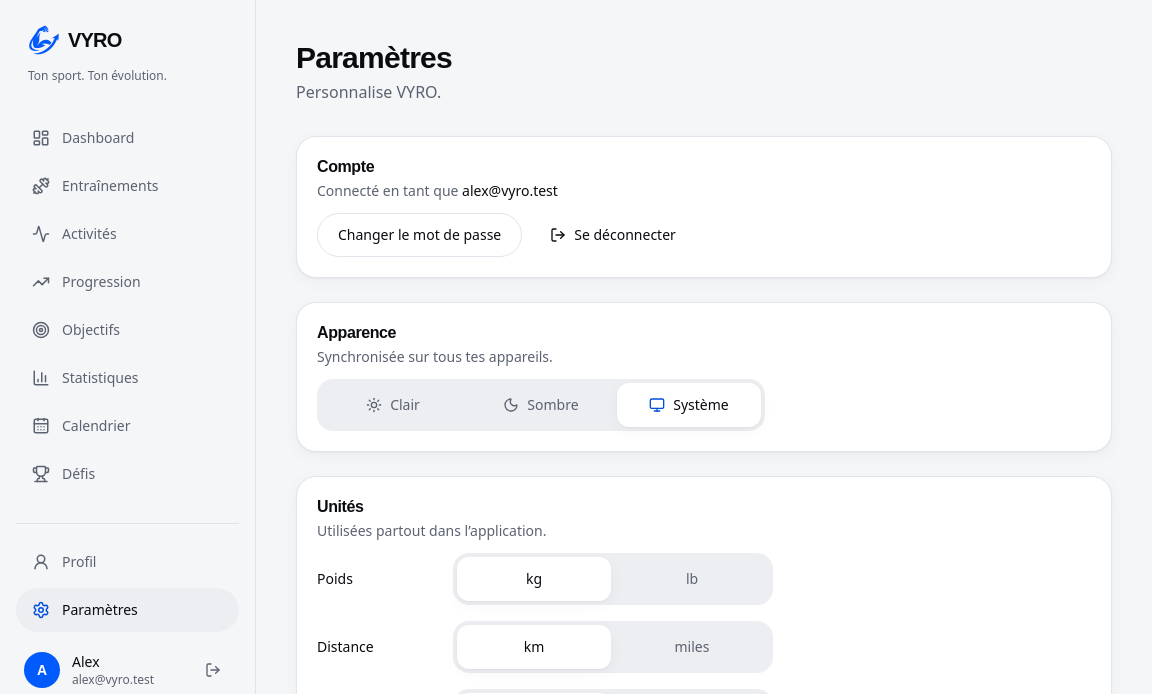
Scenario: Settings › changes the password
Click the button "Changer le mot de passe": click(420, 235) [317,213,522,257]
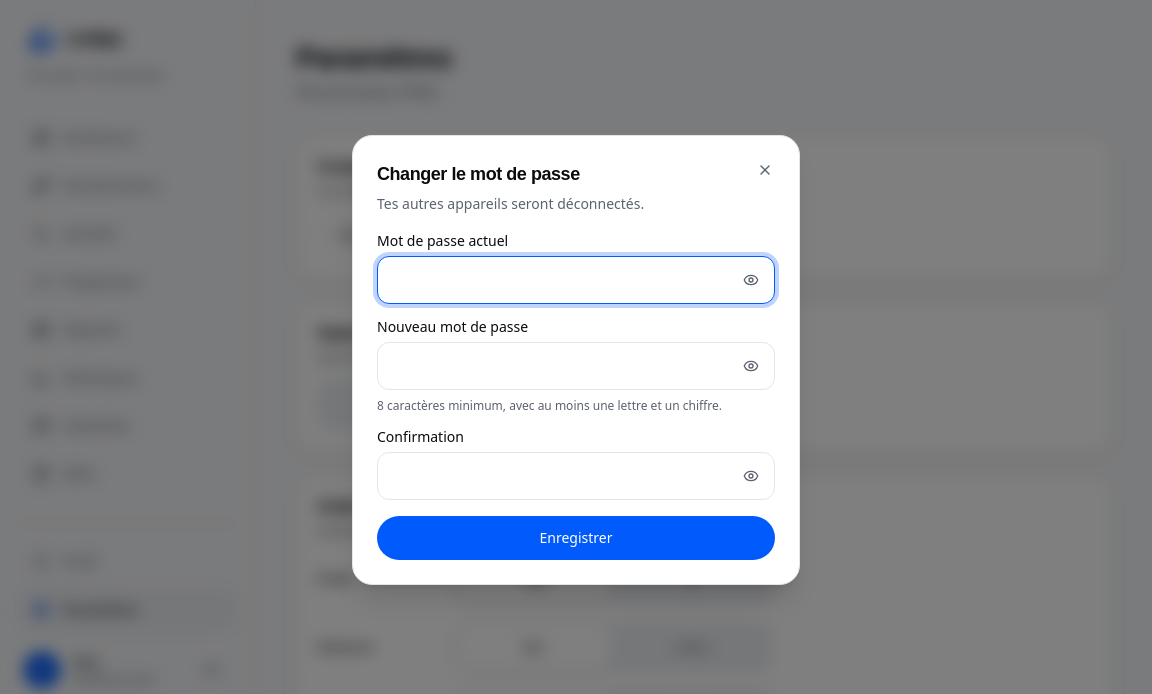
In the password field labelled "Mot de passe actuel": (576, 280) [377,256,775,304], type "MotDePasse1"
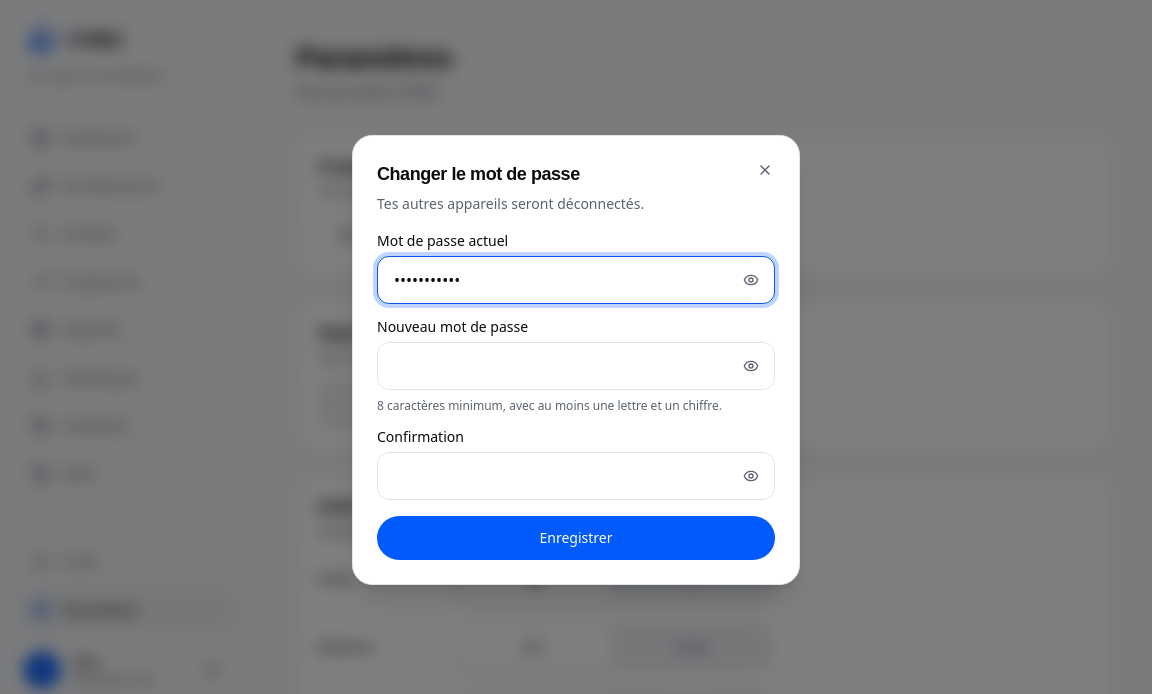
In the password field labelled "Nouveau mot de passe": (576, 366) [377,342,775,390], type "Nouveau123"
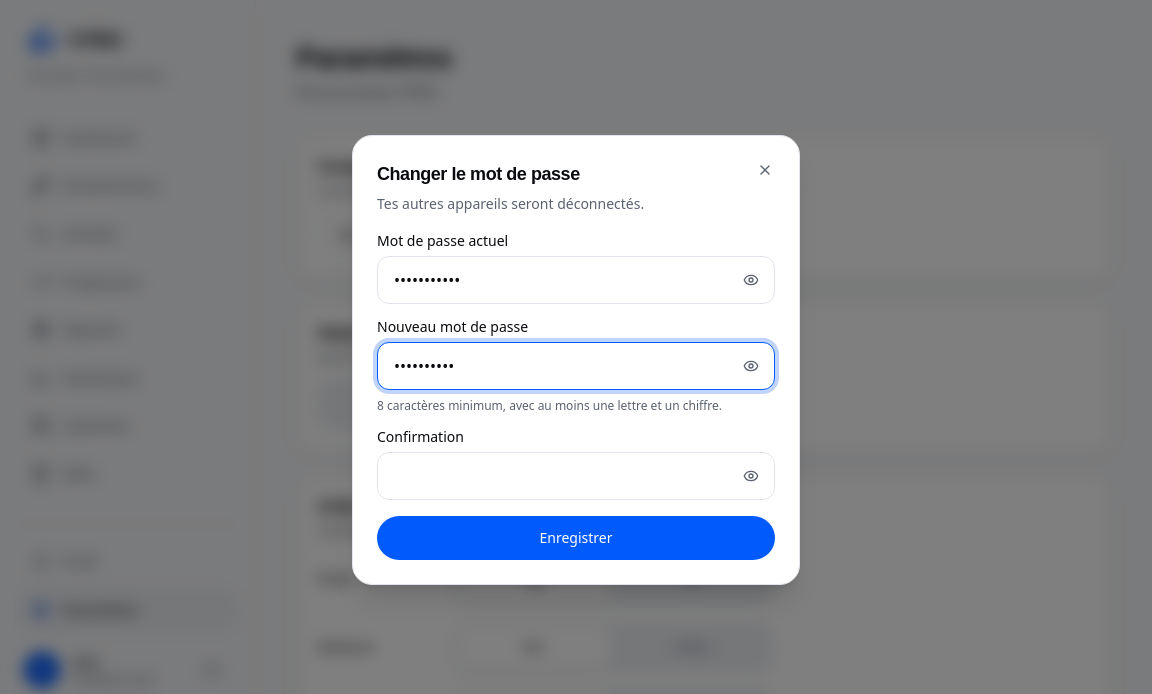
In the password field labelled "Confirmation": (576, 476) [377,452,775,500], type "Nouveau123"
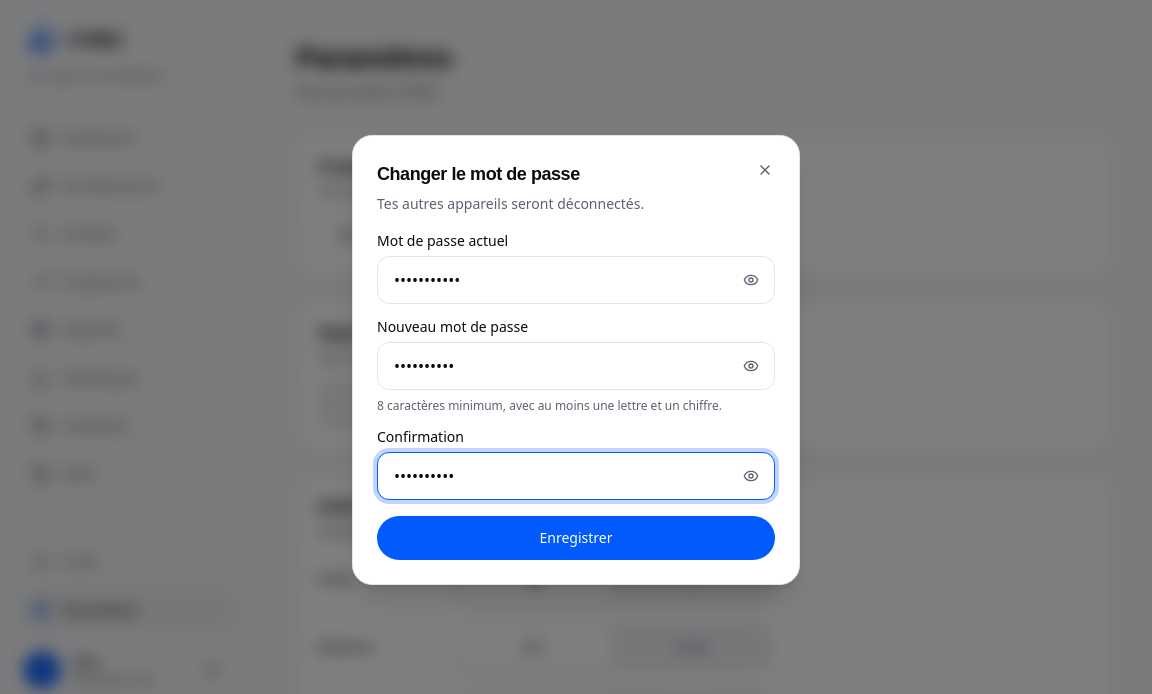
Click the button "Enregistrer": click(576, 538) [377,516,775,560]
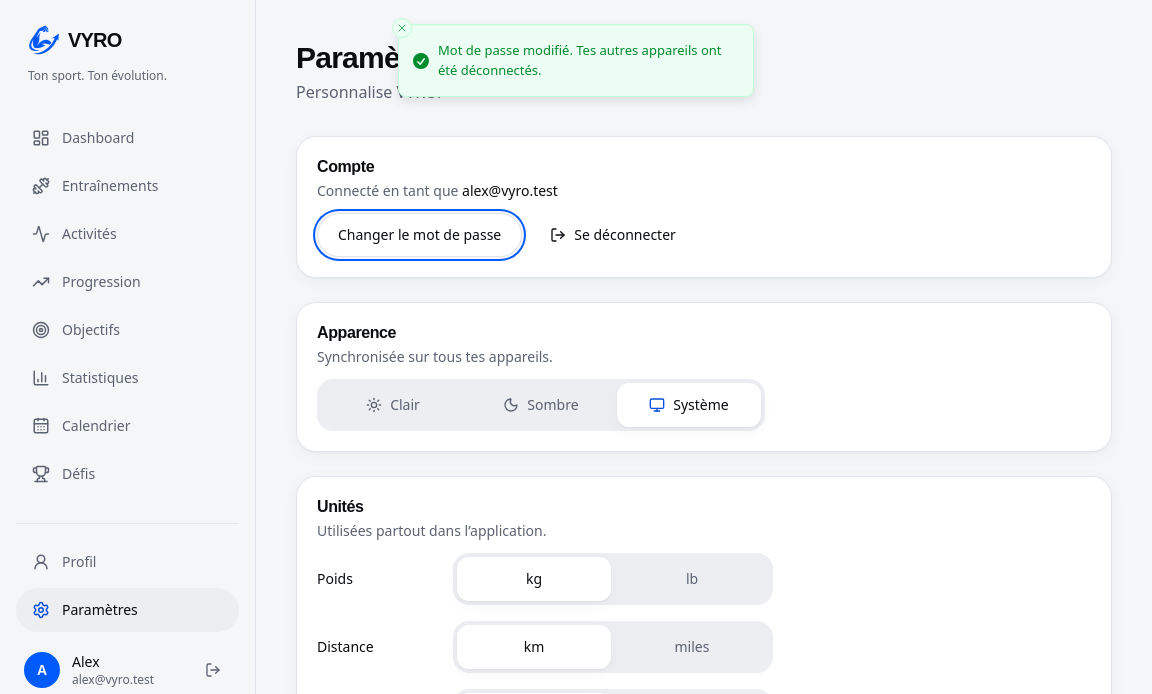
Result: the text "Mot de passe modifié" is shown at [438,41,722,78]
Result: the dialog is gone
